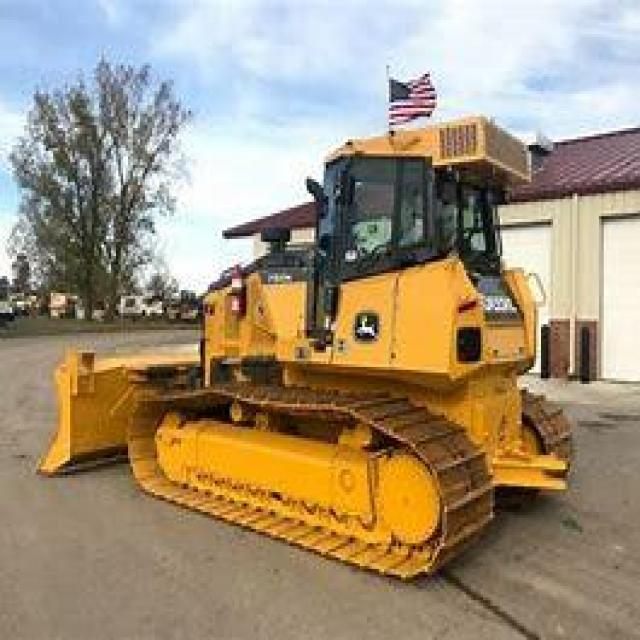Bulldozer: (27, 88, 611, 592)
